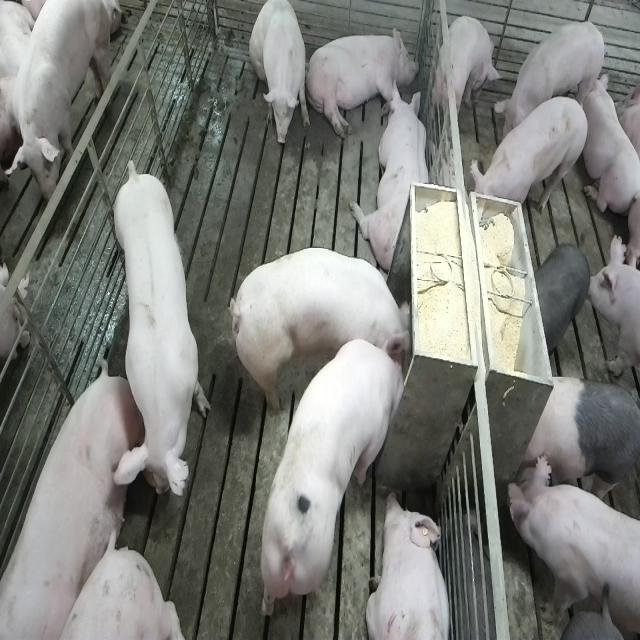Feeding: (260, 334, 410, 618), (237, 246, 420, 396)
Lateral_lying: (304, 22, 418, 140)
Sitting: (250, 0, 309, 148)
Standing: (113, 155, 212, 512), (504, 450, 638, 637), (0, 0, 116, 216), (516, 377, 639, 520), (470, 92, 590, 224), (496, 22, 608, 148), (588, 233, 640, 392), (436, 14, 503, 130), (533, 242, 592, 358)
Sternal_lying: (352, 82, 433, 274), (368, 491, 454, 640), (580, 70, 637, 216)
